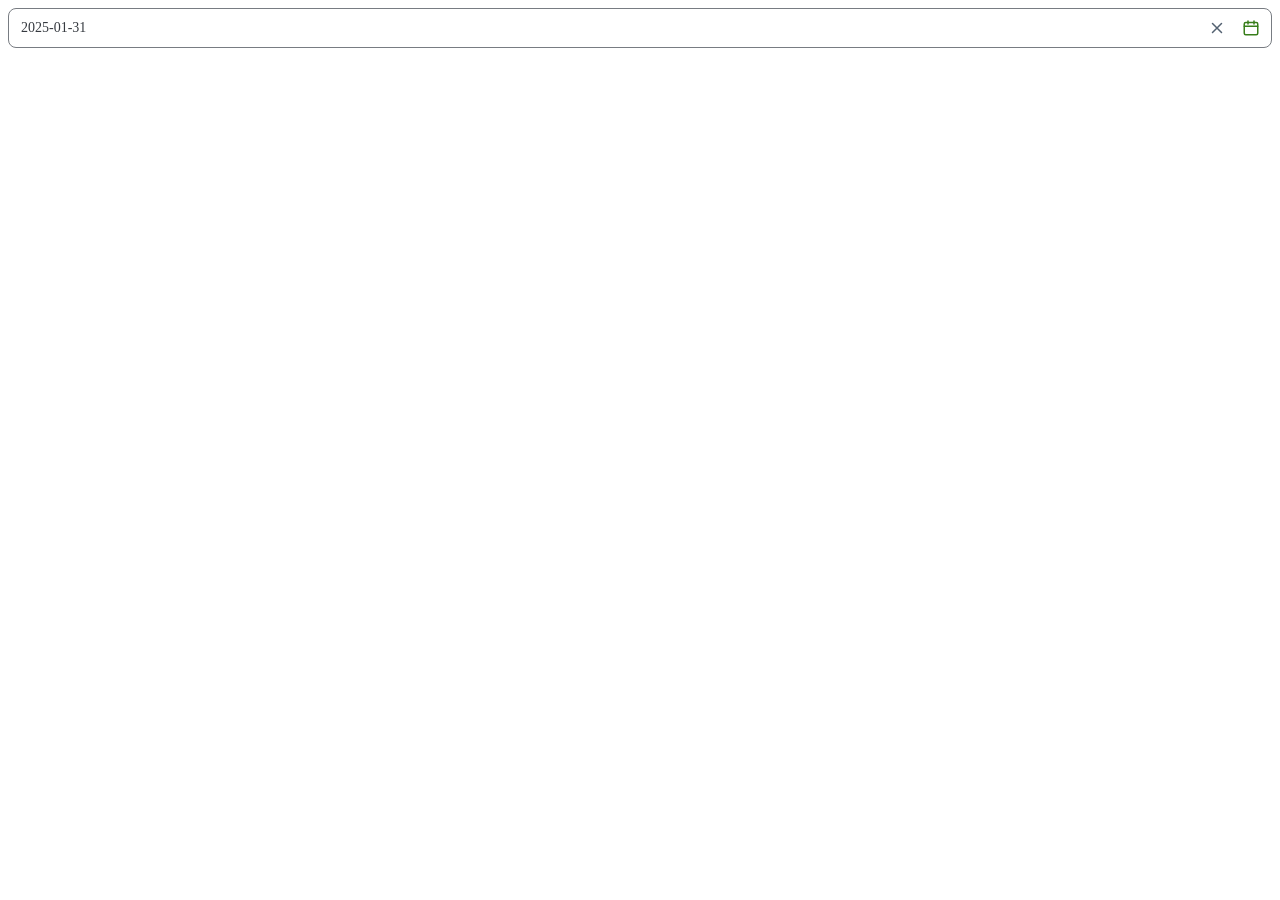
DatePicker › picks February from Jan 31 without jumping to March (review #1)
Click the field named "Event date". click: (604, 28)
box: [9,9,1199,47]
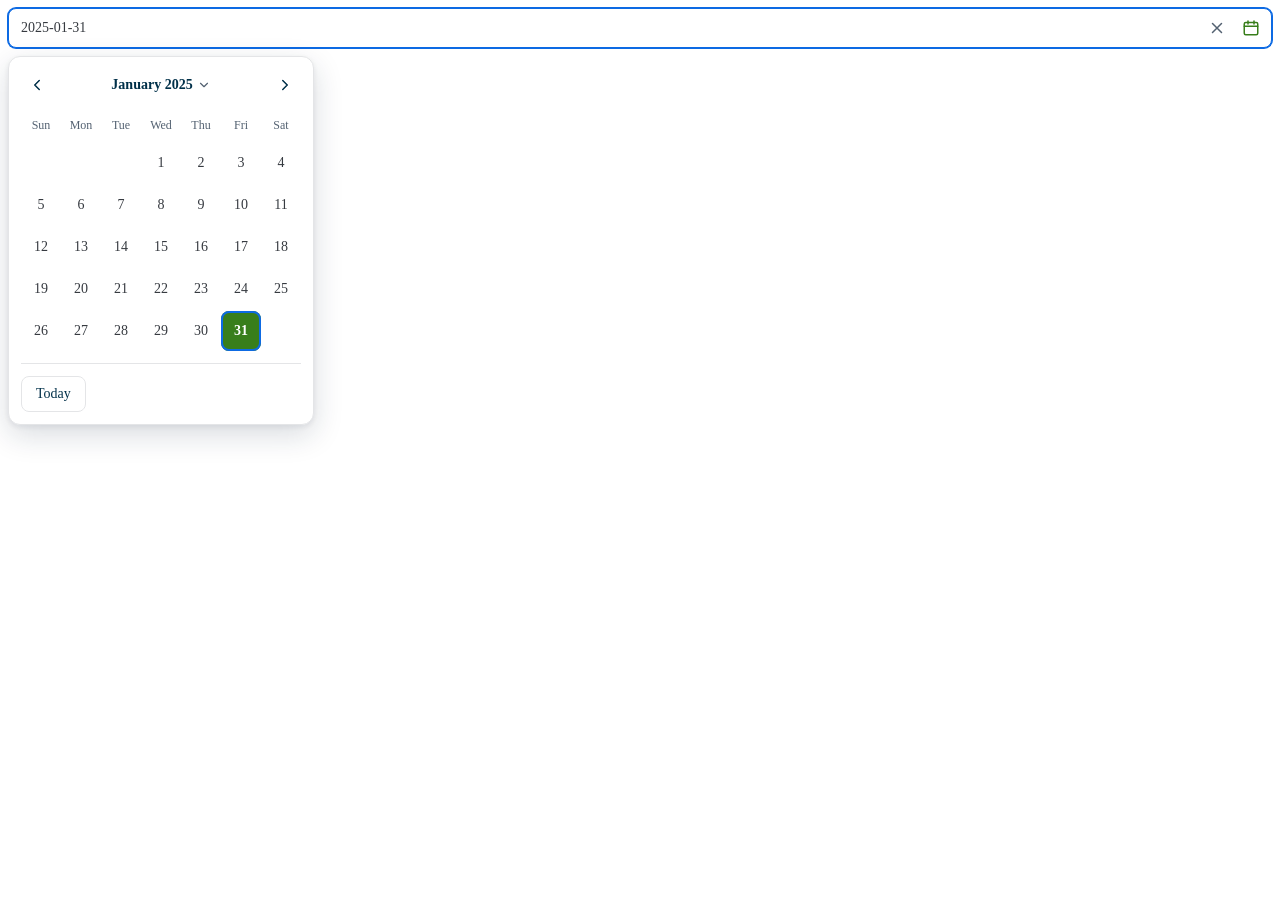
Click the button with aria-label "January 2025, Choose month". click: (161, 85)
box: [103,69,219,101]
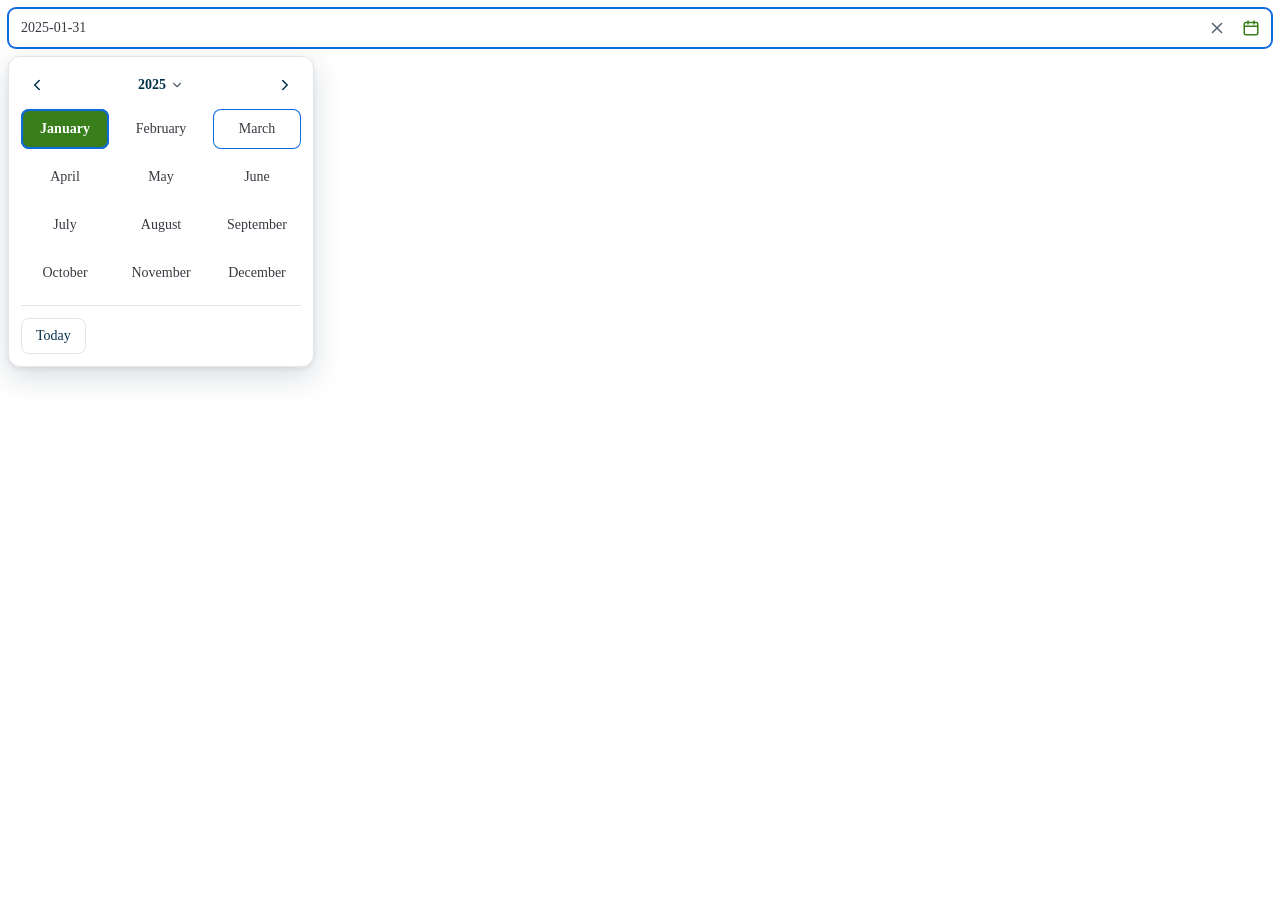
Click the button "February". click: (161, 129)
box: [117,109,205,149]
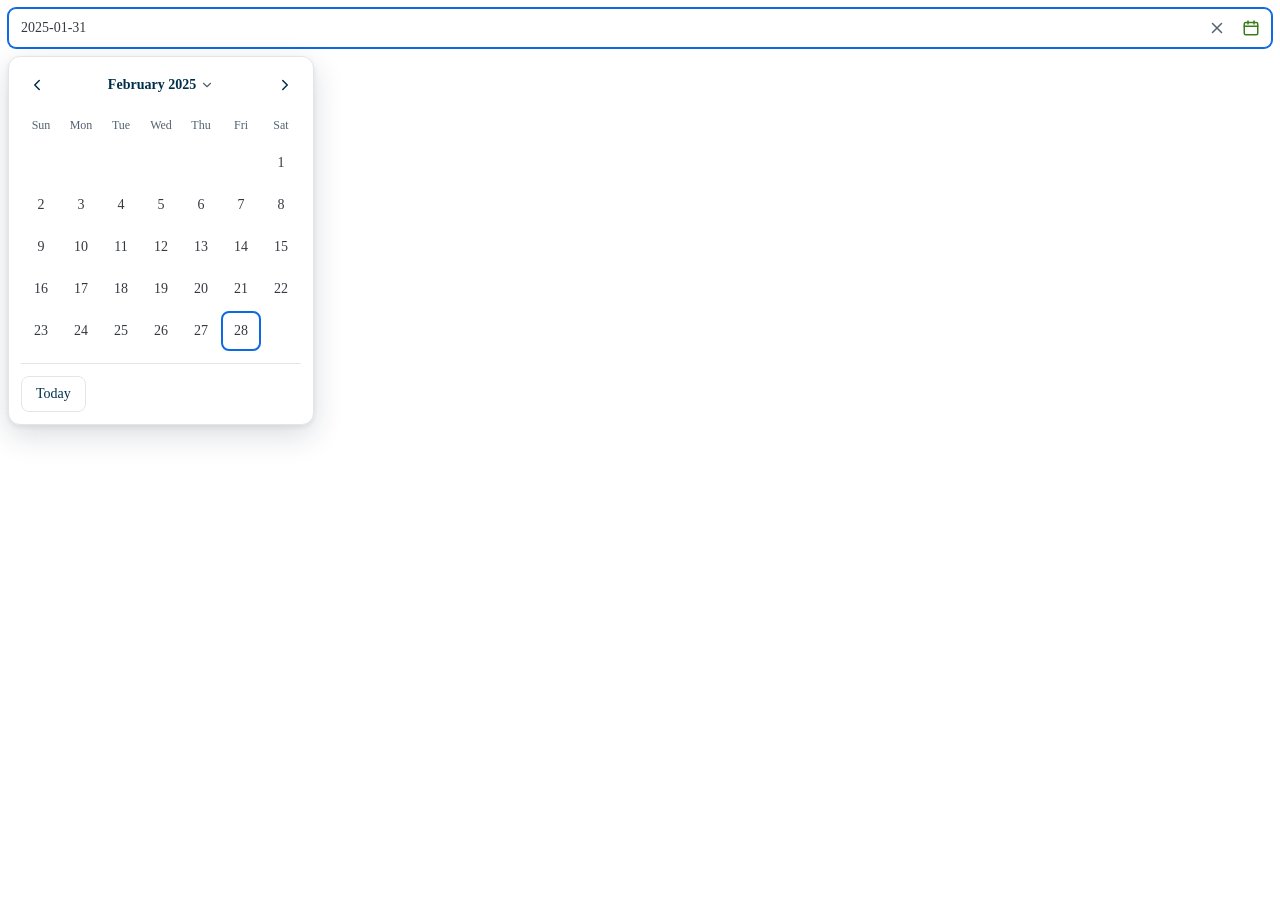
expect the text "February 2025" is shown: met, box [108,76,196,94]
